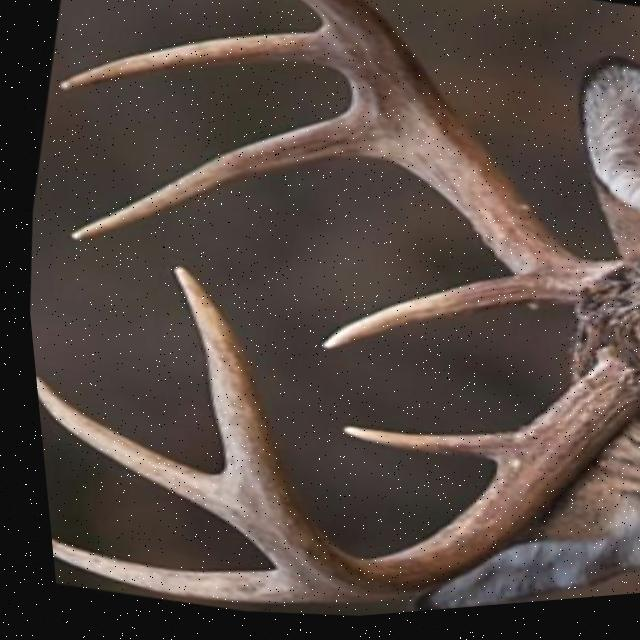L-F: (164, 264, 637, 608)
L-G1: (329, 429, 507, 471)
L-G2: (41, 536, 310, 609)
L-G3: (28, 375, 226, 533)
R-F: (289, 0, 614, 317)
R-G1: (308, 280, 537, 356)
R-G2: (60, 110, 401, 243)
R-G3: (52, 32, 336, 92)
